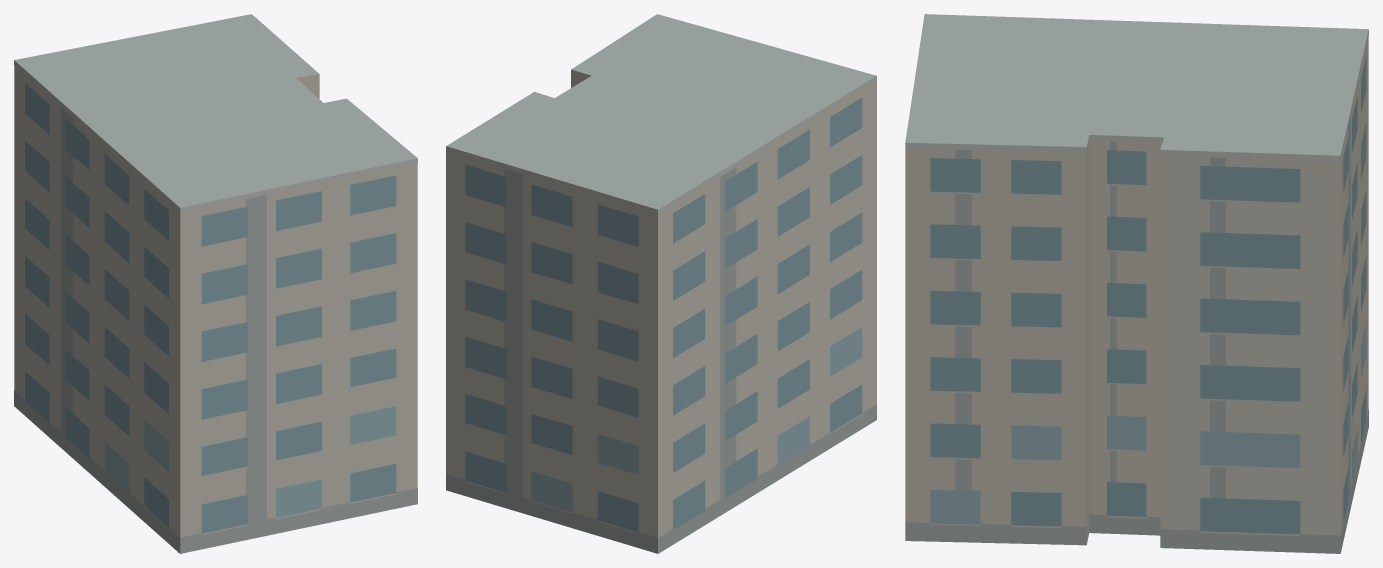
The model's file is survey-upis-33005730.glb.
3 views of the same model, side by side, from view 1: azimuth 30°, elevation 25°; view 2: azimuth 150°, elevation 25°; view 3: azimuth 270°, elevation 25° (orthographic). The views are drawn at different scales.
Parts seen in each view (by area): view 1: survey-upis-33005730.tmp; view 2: survey-upis-33005730.tmp; view 3: survey-upis-33005730.tmp.
Part boxes in pixels (left/top/right/bottom): survey-upis-33005730.tmp: left=14, top=14, right=417, bottom=553; survey-upis-33005730.tmp: left=446, top=14, right=876, bottom=553; survey-upis-33005730.tmp: left=905, top=14, right=1368, bottom=553.
Size of the model in its own units: 12.37 by 16.2 by 17.1.
